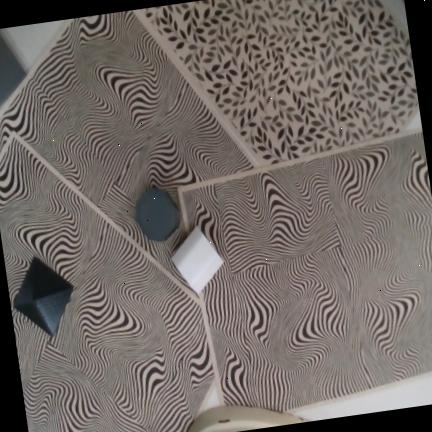Piramide: (12, 255, 74, 335)
Prisma_hexagonal: (171, 224, 223, 295), (135, 187, 180, 240)
